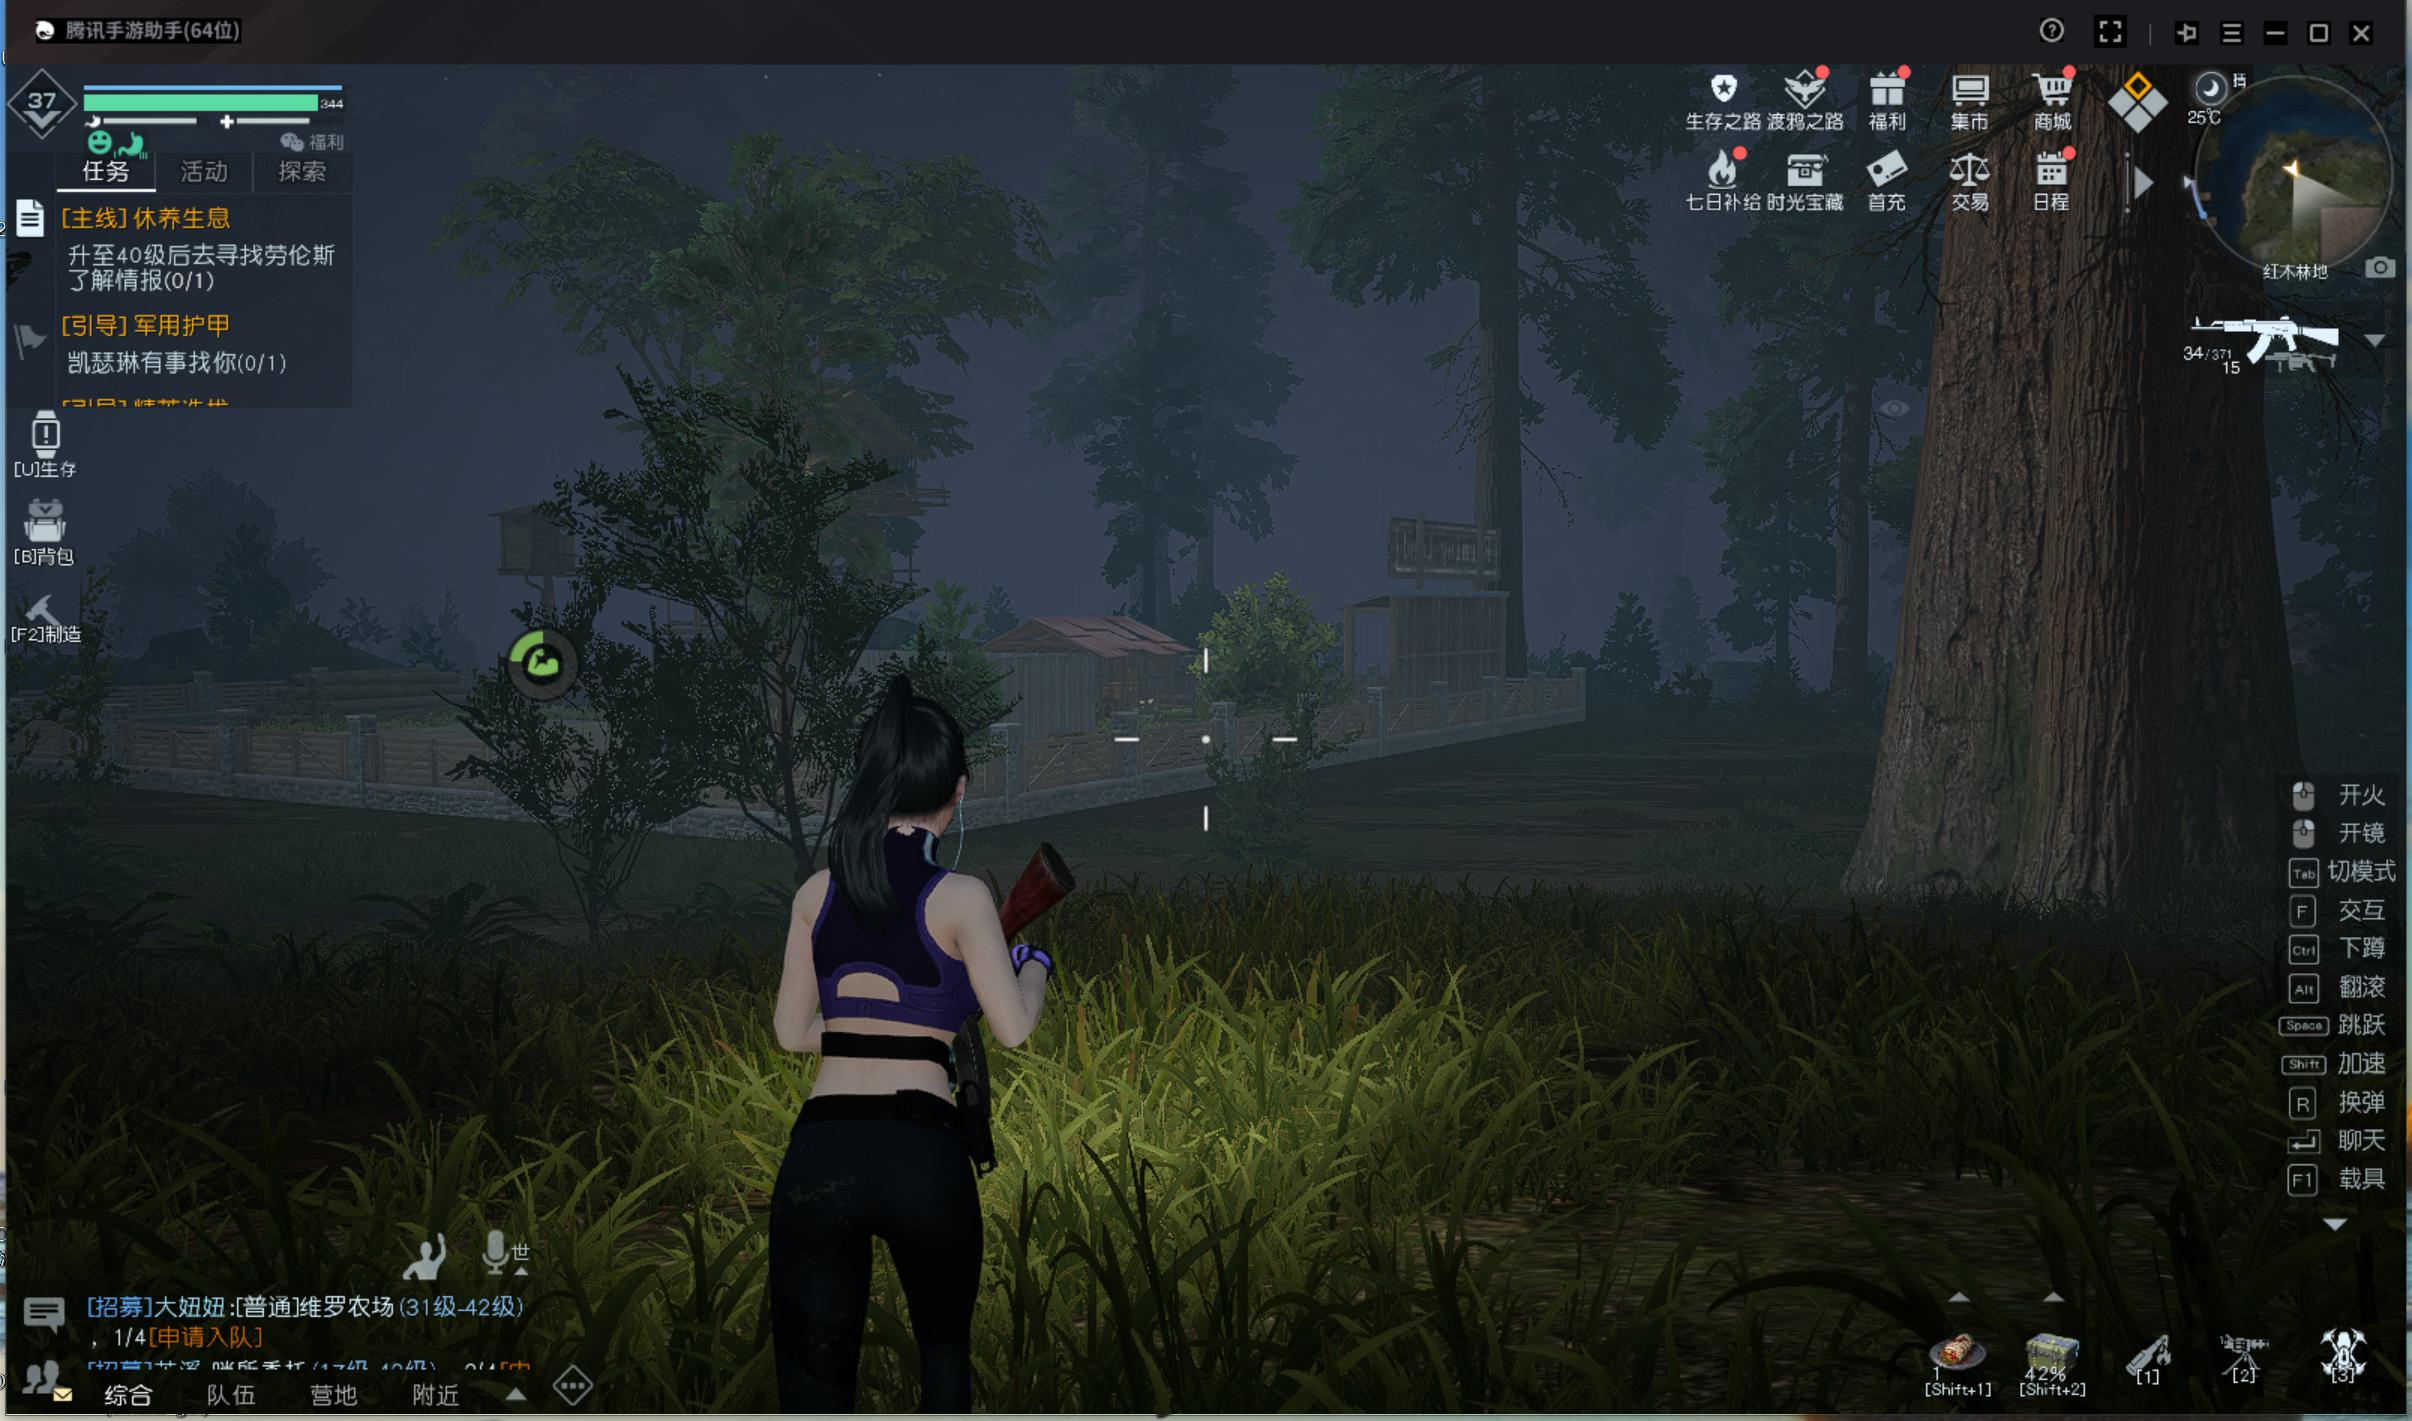tree: (1915, 239, 2304, 937), (1461, 316, 1534, 714), (1828, 377, 1881, 727)
